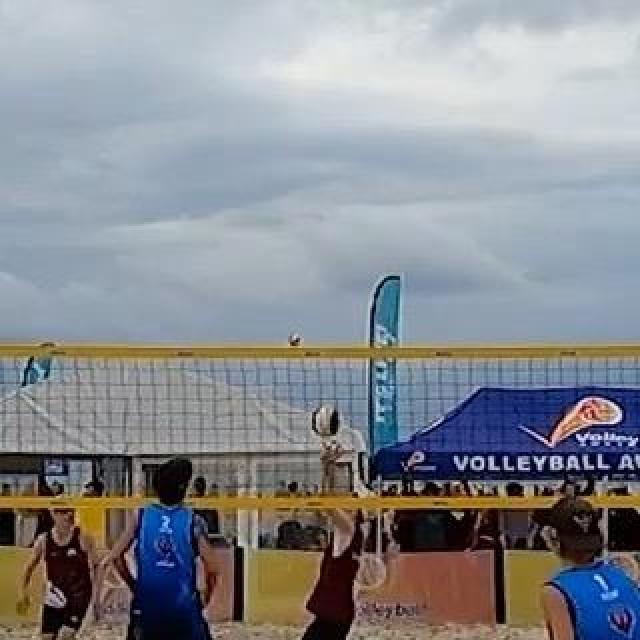volleyball: (310, 405, 342, 437), (288, 335, 302, 349)
